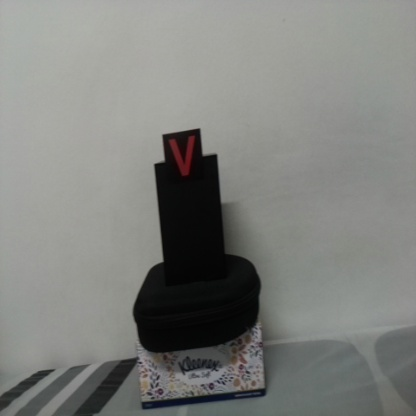id_11: (162, 135, 206, 186)
